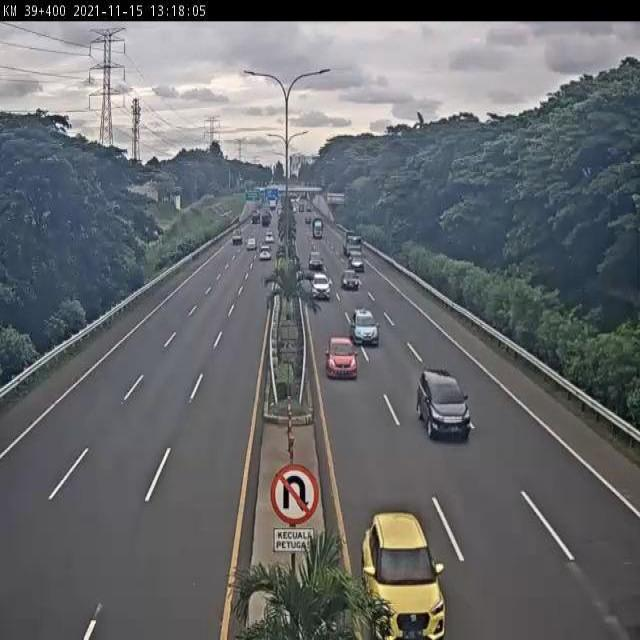ARABA: (360, 510, 446, 640), (414, 365, 472, 444), (325, 334, 358, 378), (351, 308, 381, 349), (310, 272, 332, 301), (340, 266, 360, 290)
